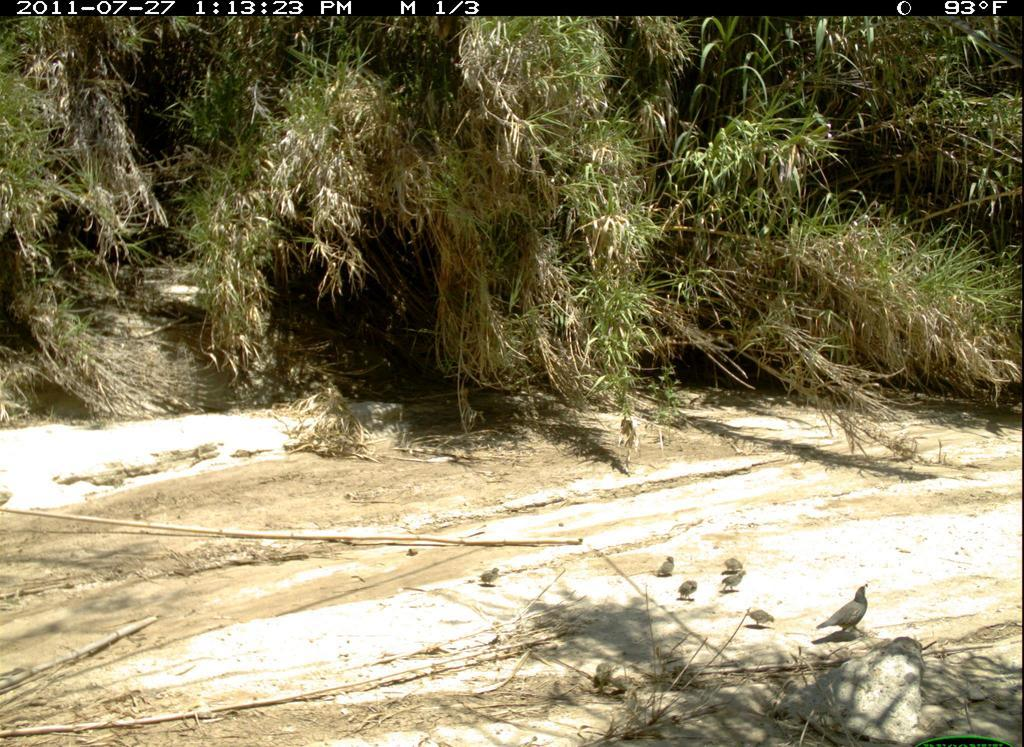bird: (816, 582, 873, 642), (746, 607, 778, 632), (654, 553, 678, 580), (720, 571, 746, 595), (476, 565, 502, 588), (594, 661, 616, 688), (612, 673, 638, 695), (677, 579, 700, 602), (721, 556, 745, 576)
